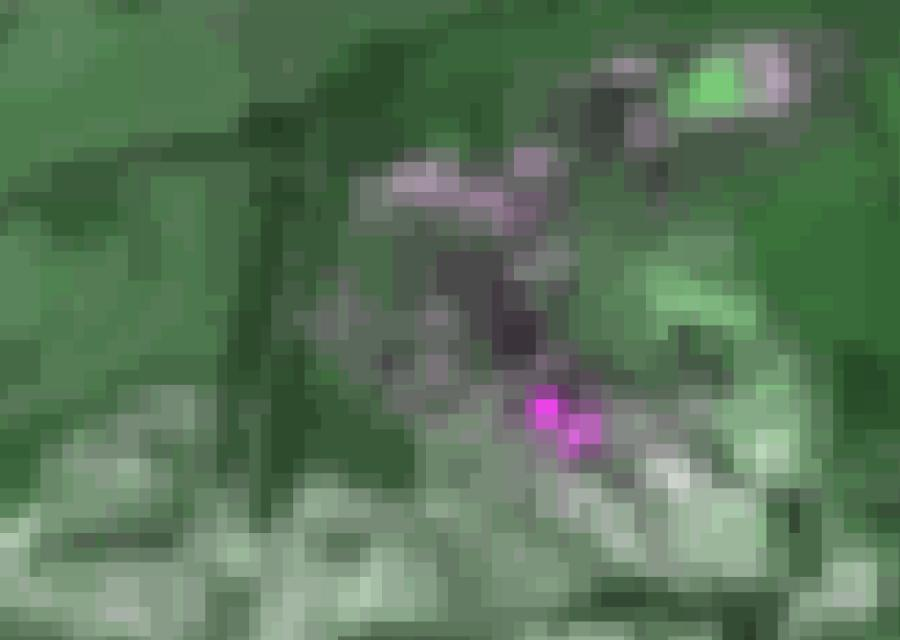Potential Lime Manufacturing Facility: (534, 397, 596, 448)
